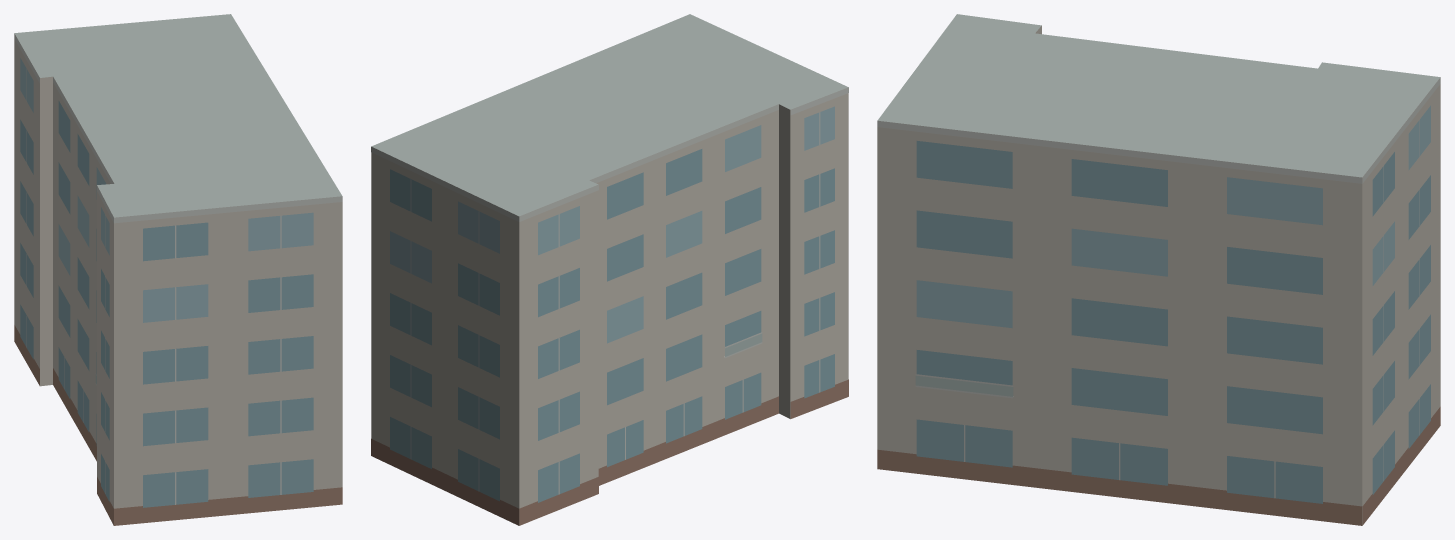
The model's file is survey-upis-32977240.glb.
The picture shows the model from 3 angles, left to right: view 1: azimuth 30°, elevation 25°; view 2: azimuth 150°, elevation 25°; view 3: azimuth 270°, elevation 25°; orthographic projection. The views are drawn at different scales.
Visible parts, largest first — view 1: survey-upis-32977240.tmp; view 2: survey-upis-32977240.tmp; view 3: survey-upis-32977240.tmp.
Boxes of the visible parts, x1,y1,x2,y2 form: survey-upis-32977240.tmp: [14, 14, 342, 525]; survey-upis-32977240.tmp: [371, 14, 848, 525]; survey-upis-32977240.tmp: [877, 14, 1440, 525].
Bounding box in the file's own units: 13.29 × 13.2 × 19.35.
